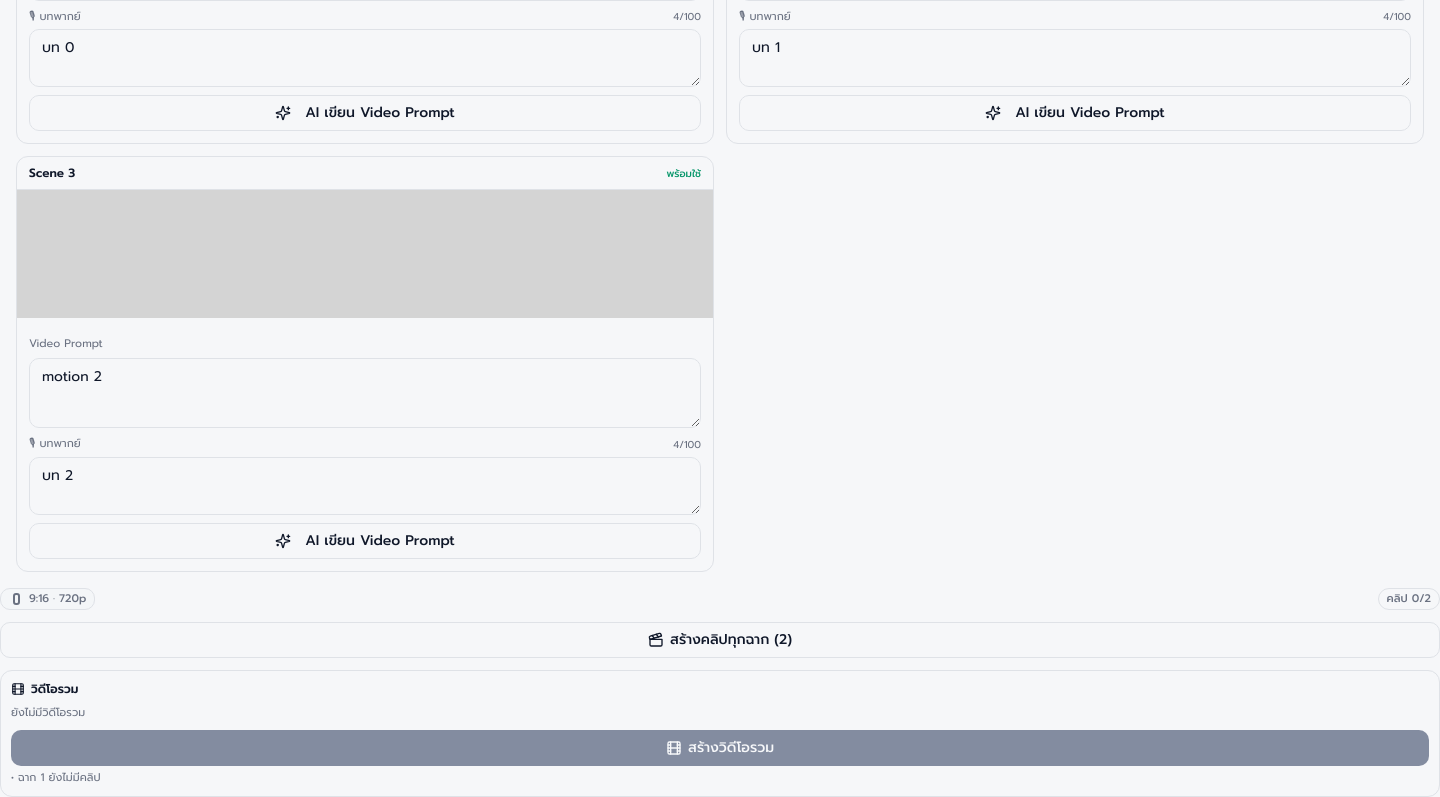
VideoClipsPanel — สร้างคลิปรายฉาก › model ไม่มีราคา → "ไม่ทราบจำนวน credit"; ยกเลิก → ไม่ยิง generate-clips
(page scrolled)
Click the button "สร้างคลิปทุกฉาก (2)" at x=720, y=640, box [0,622,1439,658]
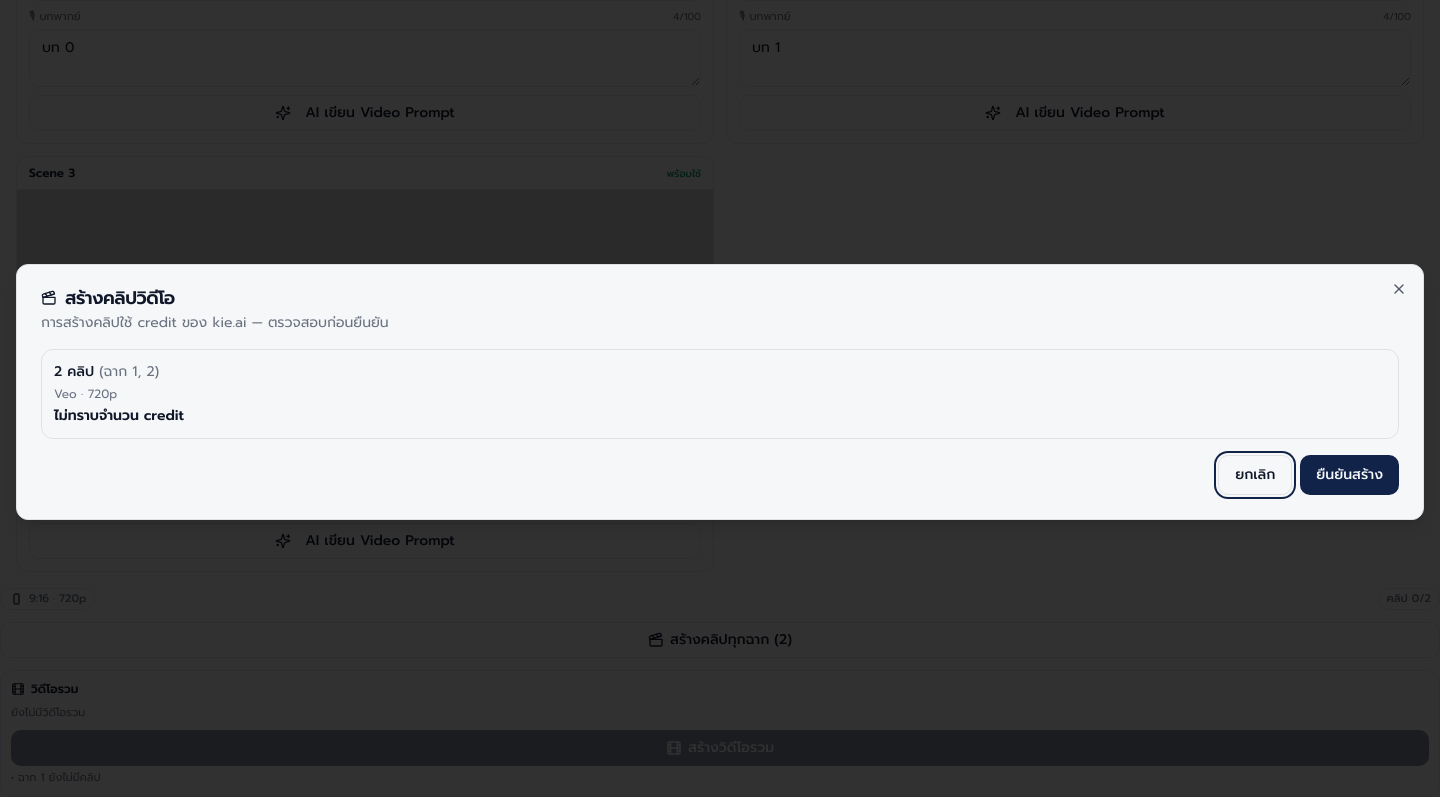
Now the text with test id "clip-confirm-credits" reads "ไม่ทราบจำนวน credit", box [54,405,184,426]
Click the button "ยกเลิก" at x=1255, y=475, box [1218,455,1292,495]
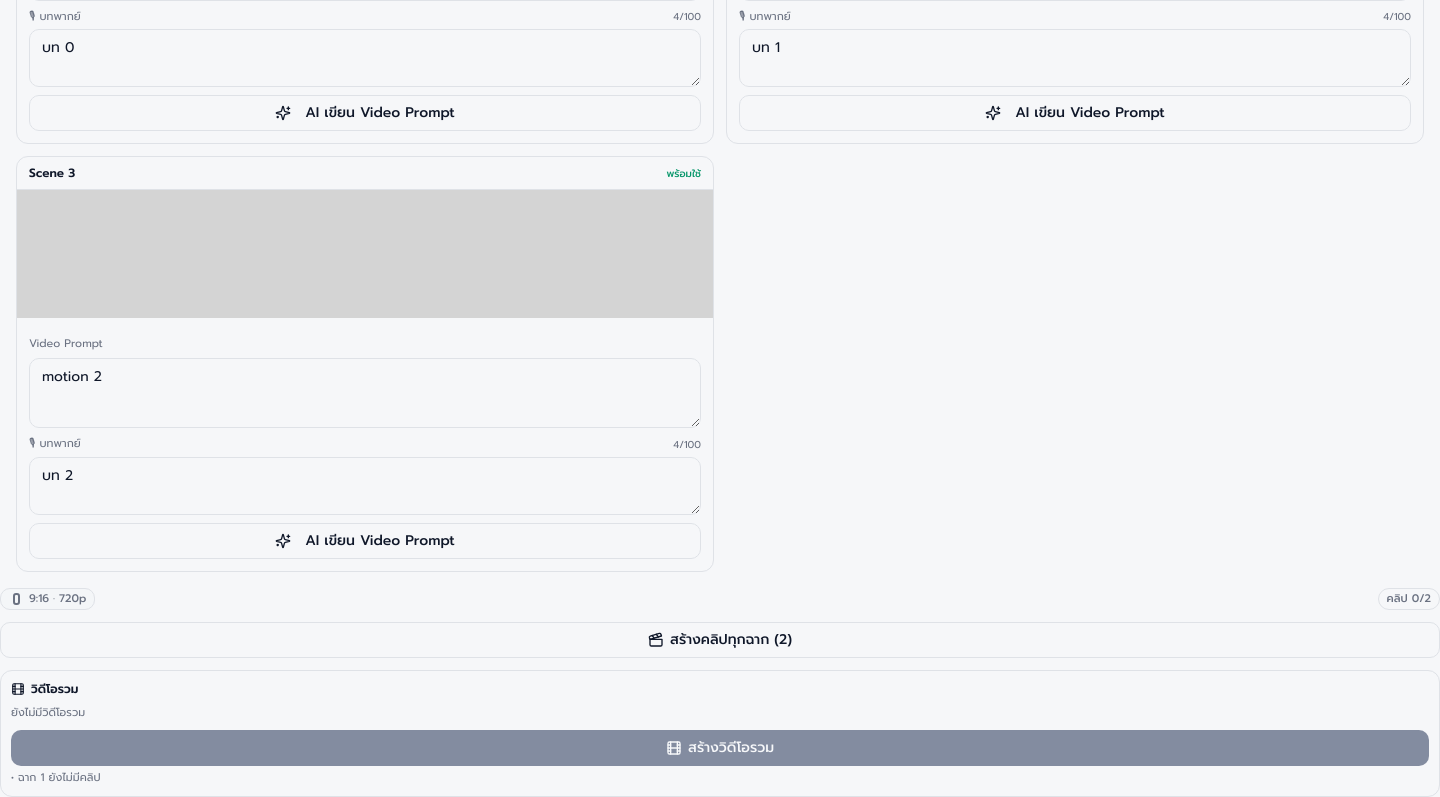
Now the element with test id "clip-confirm-count" is gone
